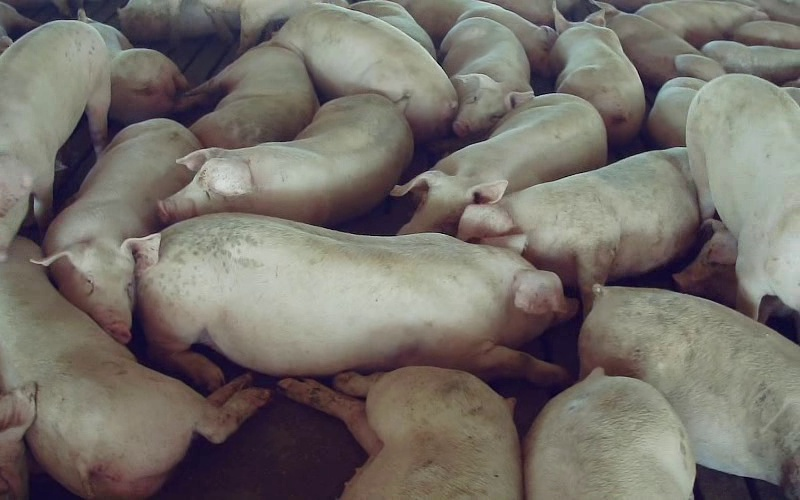pig: (137, 214, 575, 386), (579, 287, 799, 499), (458, 148, 700, 313), (39, 119, 200, 343), (160, 94, 412, 225), (279, 366, 521, 499), (392, 93, 606, 233), (686, 74, 799, 317), (0, 20, 110, 260), (271, 4, 457, 140), (523, 368, 695, 499), (183, 44, 318, 148), (551, 3, 644, 145), (79, 10, 187, 124), (440, 17, 533, 136), (596, 2, 724, 86), (636, 0, 768, 48)
